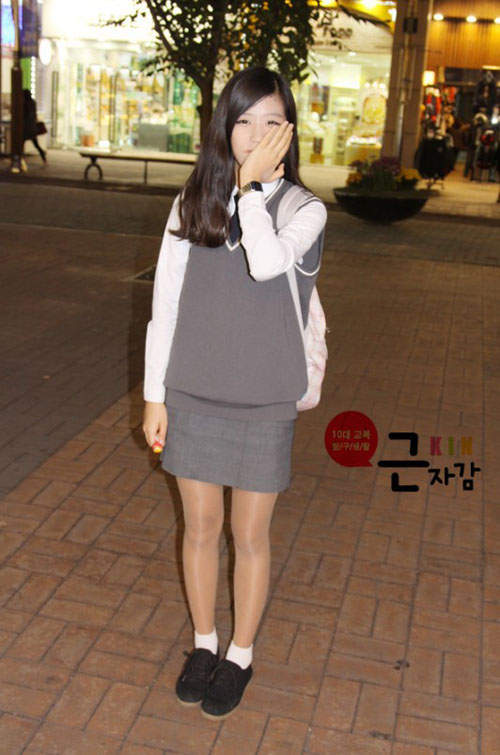face: (230, 91, 284, 178)
